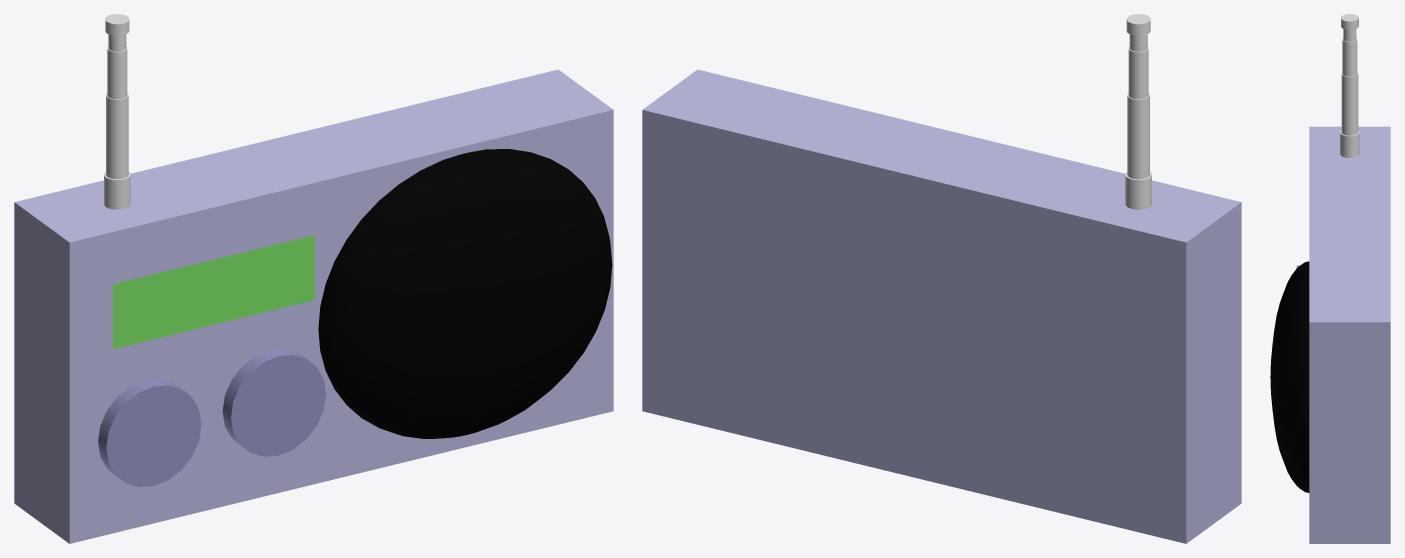
Rendered from radio.fbx.
3 renders of one model, left to right at view 1: azimuth 30°, elevation 25°; view 2: azimuth 150°, elevation 25°; view 3: azimuth 270°, elevation 25°, orthographic. The views are drawn at different scales.
Visible parts, largest first — view 1: pCube1, pSphere1, pCube2, pCylinder6, pCylinder7, pCylinder2, pCylinder3, pCylinder1; view 2: pCube1, pCylinder2, pCylinder3, pCylinder1; view 3: pCube1, pSphere1, pCylinder2, pCylinder3, pCylinder1, pCylinder5, pCylinder4.
Boxes of the visible parts, x1=… form: pCube1: x1=14, y1=69, x2=613, y2=543; pSphere1: x1=318, y1=149, x2=612, y2=438; pCube2: x1=113, y1=235, x2=314, y2=349; pCylinder6: x1=98, y1=379, x2=201, y2=487; pCylinder7: x1=222, y1=349, x2=325, y2=456; pCylinder2: x1=106, y1=93, x2=128, y2=179; pCylinder3: x1=107, y1=46, x2=127, y2=99; pCylinder1: x1=104, y1=172, x2=130, y2=209; pCube1: x1=642, y1=69, x2=1241, y2=543; pCylinder2: x1=1127, y1=93, x2=1149, y2=179; pCylinder3: x1=1128, y1=46, x2=1148, y2=99; pCylinder1: x1=1125, y1=172, x2=1151, y2=209; pCube1: x1=1309, y1=126, x2=1390, y2=543; pSphere1: x1=1270, y1=261, x2=1309, y2=492; pCylinder2: x1=1341, y1=72, x2=1358, y2=135; pCylinder3: x1=1342, y1=38, x2=1357, y2=76; pCylinder1: x1=1340, y1=130, x2=1359, y2=157; pCylinder5: x1=1341, y1=14, x2=1358, y2=29; pCylinder4: x1=1343, y1=29, x2=1356, y2=41.
Size of the model in its own units: 2.09 by 1.78 by 0.5424.
